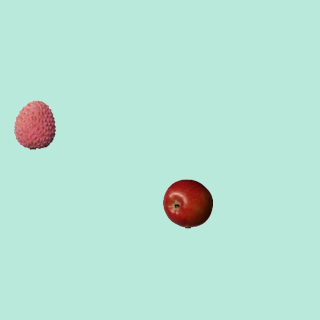Apple Braeburn: (162, 178, 212, 228)
Lychee: (9, 99, 59, 149)
